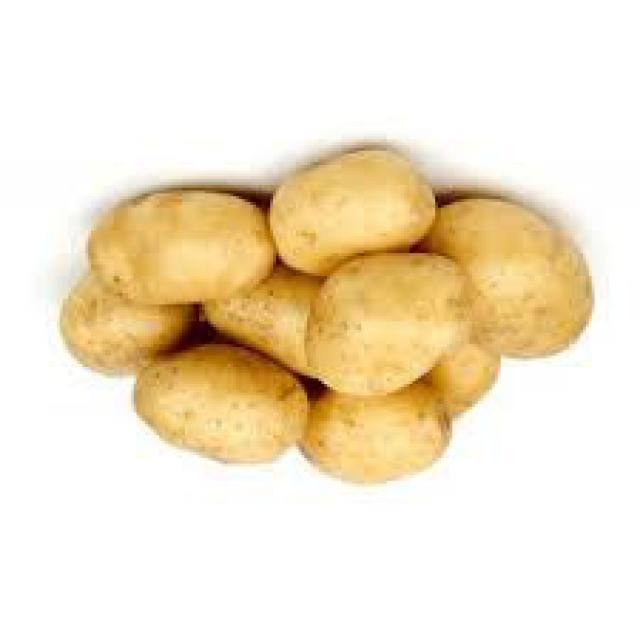potato: (436, 196, 592, 361), (307, 255, 476, 397), (93, 187, 276, 307), (135, 344, 309, 467), (273, 150, 439, 276), (299, 390, 454, 488), (63, 270, 199, 380), (424, 341, 510, 418)
